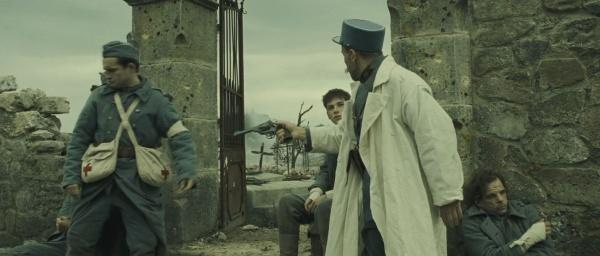Gun: (232, 120, 293, 145)
